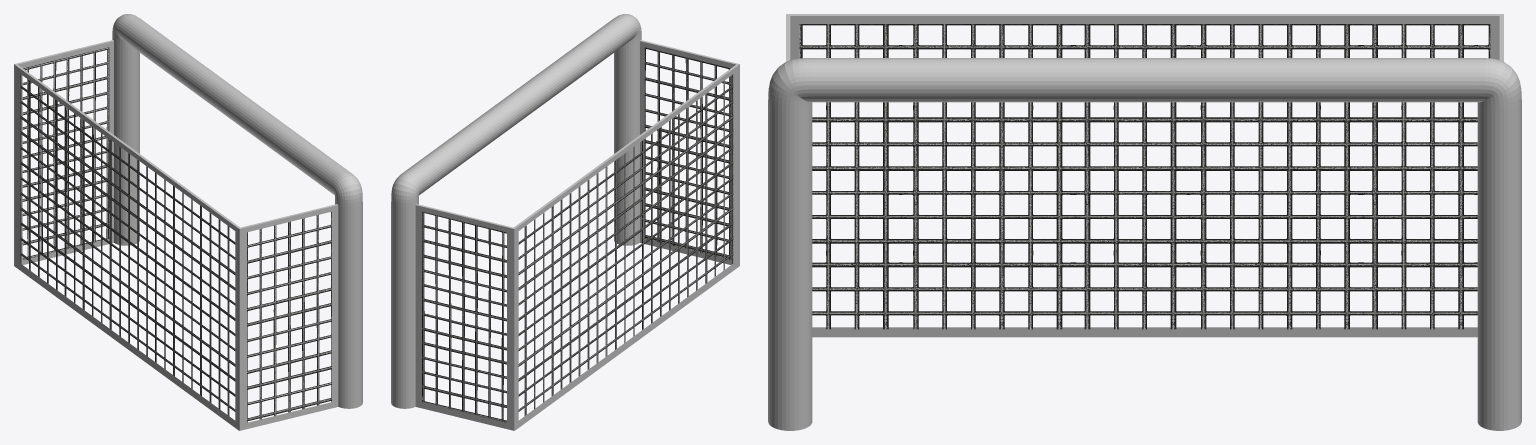
File: spl-goalpost-v1.obj
The picture shows the model from 3 angles, left to right: view 1: azimuth 30°, elevation 25°; view 2: azimuth 150°, elevation 25°; view 3: azimuth 270°, elevation 25°; orthographic projection. The views are drawn at different scales.
Parts seen in each view (by area): view 1: Cylinder.002_Cylinder.003; view 2: Cylinder.002_Cylinder.003; view 3: Cylinder.002_Cylinder.003.
Part boxes in pixels (x1,y1,x2,y2): Cylinder.002_Cylinder.003: [14, 14, 362, 430]; Cylinder.002_Cylinder.003: [391, 14, 739, 430]; Cylinder.002_Cylinder.003: [768, 14, 1521, 430].
Bounding box in the file's own units: 5.1 × 9 × 17.
2 materials, 1 textured.
